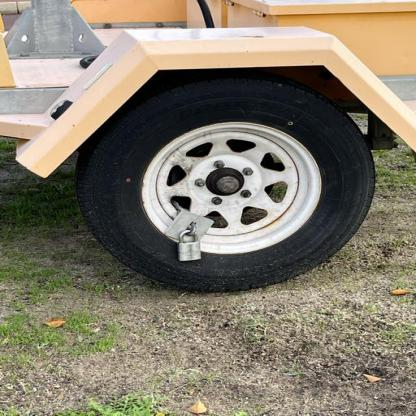Tire: (74, 73, 376, 293)
